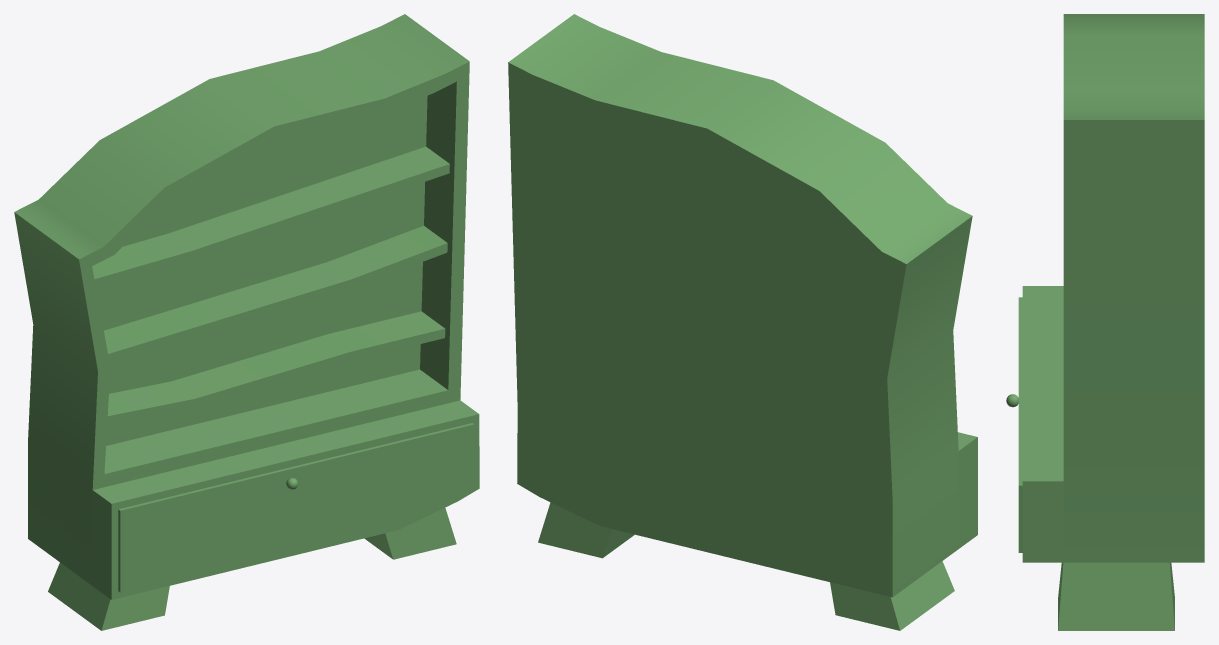
Rendered from BookShelf_Type_03.fbx.
3 views of the same model, side by side, from view 1: azimuth 30°, elevation 25°; view 2: azimuth 150°, elevation 25°; view 3: azimuth 270°, elevation 25° (orthographic). The views are drawn at different scales.
Parts seen in each view (by area): view 1: BookShelf_Main_Type_03, Wood_Hor_C_01, Wood_Hor_B_01, Wood_Hor_A_01; view 2: BookShelf_Main_Type_03; view 3: BookShelf_Main_Type_03.
Boxes of the visible parts, x1,y1,x2,y2 form: BookShelf_Main_Type_03: [14, 14, 479, 630]; Wood_Hor_C_01: [92, 146, 449, 287]; Wood_Hor_B_01: [104, 226, 447, 362]; Wood_Hor_A_01: [107, 311, 445, 425]; BookShelf_Main_Type_03: [508, 14, 977, 630]; BookShelf_Main_Type_03: [1018, 14, 1204, 630].
Size of the model in its own units: 364 by 425 by 147.
